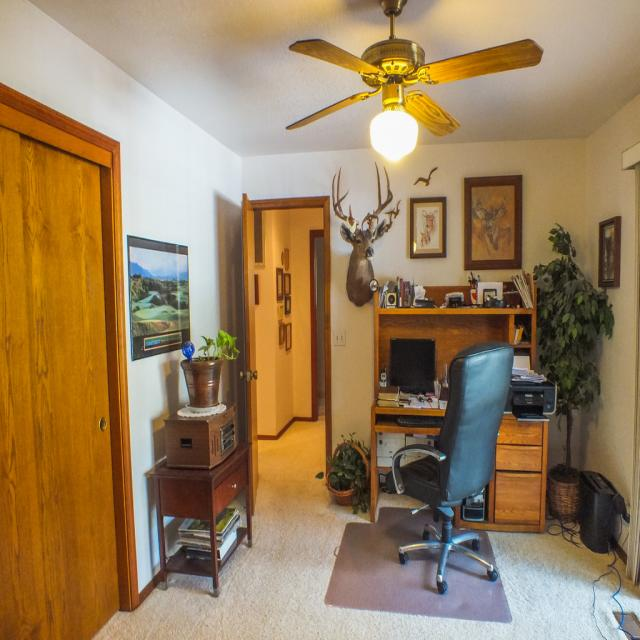Bulb: (285, 0, 542, 165)
